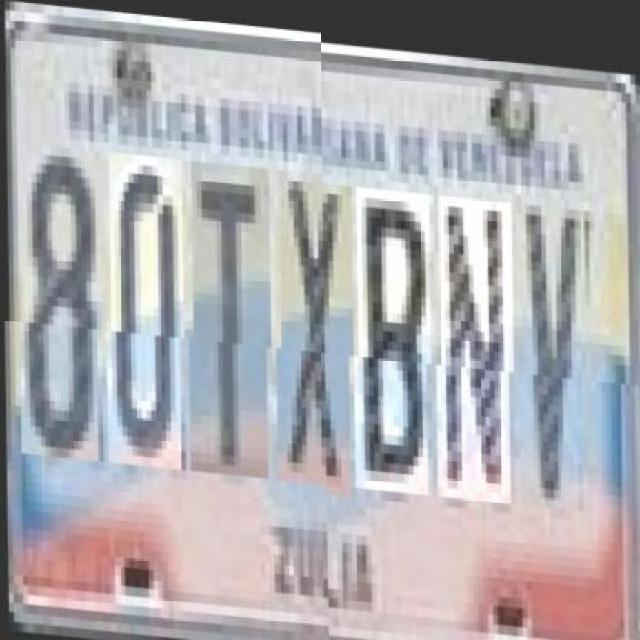0: (108, 159, 184, 476)
8: (21, 153, 102, 470)
b: (356, 179, 432, 487)
n: (438, 185, 514, 493)
t: (191, 166, 272, 483)
v: (520, 183, 588, 500)
x: (278, 173, 354, 490)
